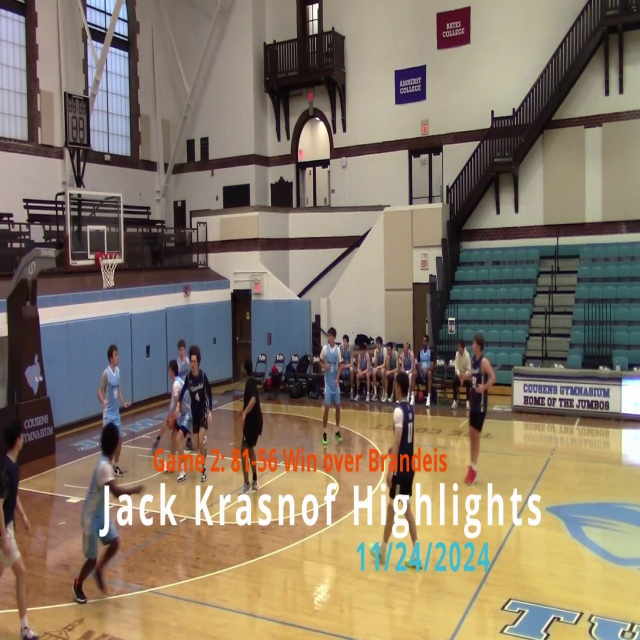Basketball: (166, 414, 176, 430)
